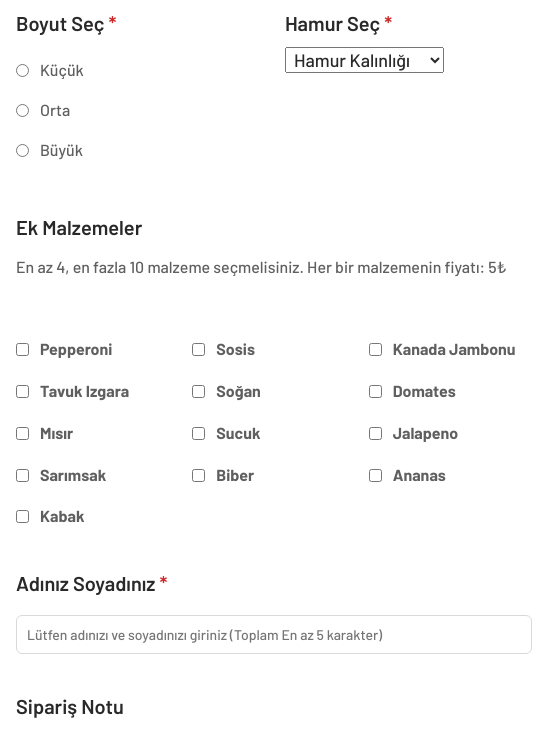
Test: Pizza Sipariş Formu Testleri › En az 4 malzeme seçilmediğinde veya isim 5 karakterden az olduğunda buton disabled kalmalı
(page scrolled)
Step 1. Check the checkbox with test id "malzeme-Pepperoni" → coordinates (23, 350), box left=16, top=343, right=29, bottom=356
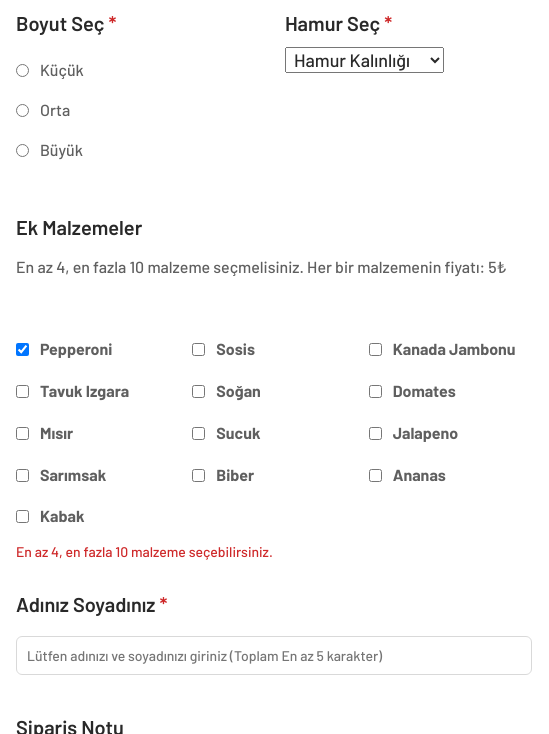
Step 2. Check the checkbox with test id "malzeme-Sosis" → coordinates (199, 350), box left=192, top=343, right=205, bottom=356
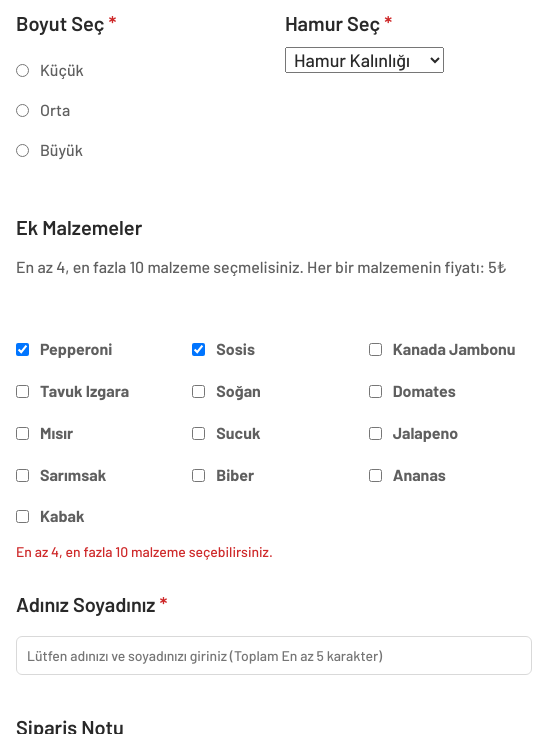
Step 3. Type "Ali" into the field with test id "isim-input" → coordinates (274, 656), box left=16, top=636, right=532, bottom=675
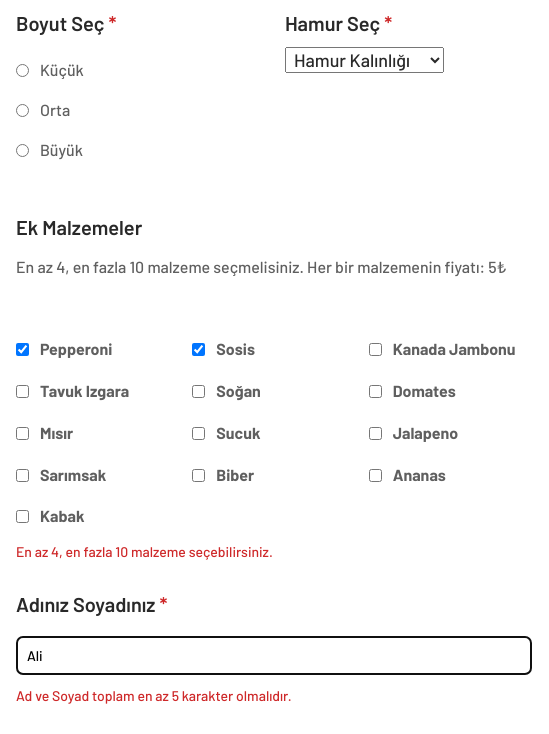
Now the text "En az 4, en fazla 10 malzeme seçebilirsiniz." is shown, box left=16, top=543, right=273, bottom=560
Now the text "Ad ve Soyad toplam en az 5 karakter olmalıdır." is shown, box left=16, top=687, right=292, bottom=704
